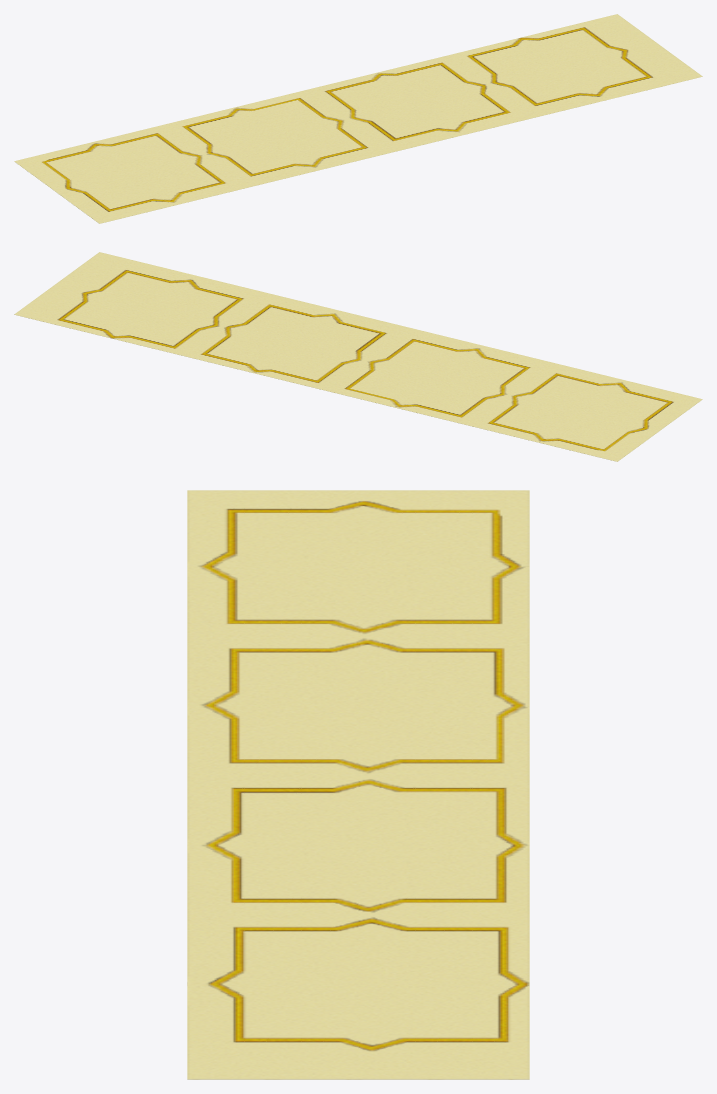
The model's file is uibar.obj.
3 renders of one model, top to bottom at view 1: azimuth 30°, elevation 25°; view 2: azimuth 150°, elevation 25°; view 3: azimuth 270°, elevation 25°, orthographic. The views are drawn at different scales.
Visible parts, largest first — view 1: Box001; view 2: Box001; view 3: Box001.
Boxes of the visible parts, x1,y1,x2,y2 form: Box001: (14, 14, 702, 223); Box001: (14, 252, 702, 461); Box001: (187, 490, 529, 1079).
Size of the model in its own units: 668 by 0.1 by 164.
Materials: 1 (1 with a texture image).
